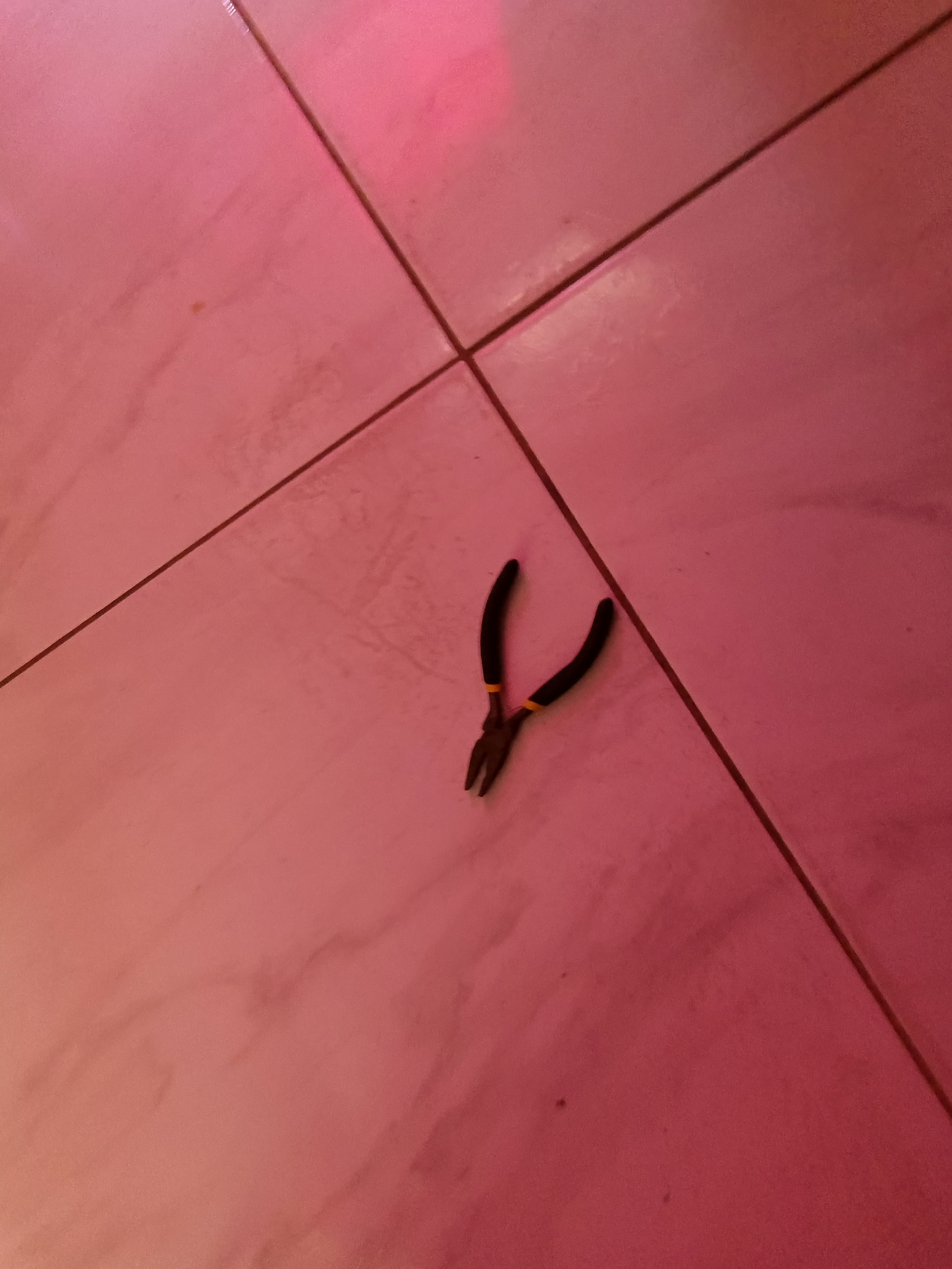Pinzas: (465, 559, 614, 796)
